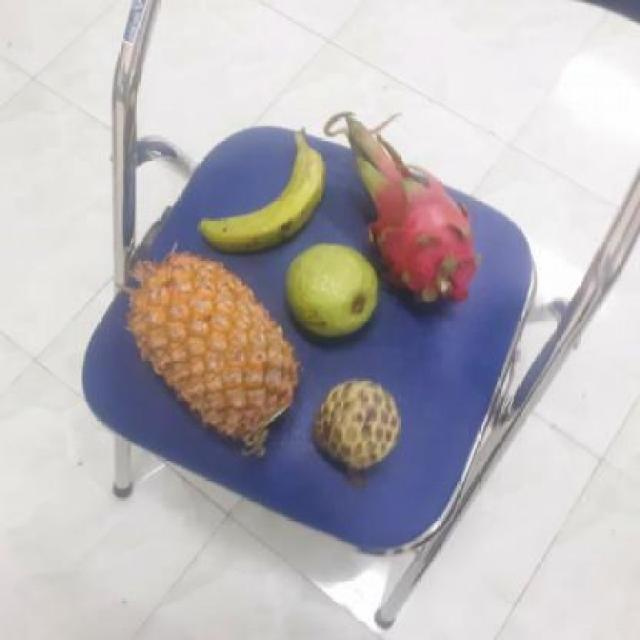banana: (196, 135, 322, 254)
dragon fruit: (340, 144, 474, 304)
guava: (282, 242, 380, 336)
pineapple: (123, 254, 292, 448)
sugar apple: (305, 380, 398, 472)
